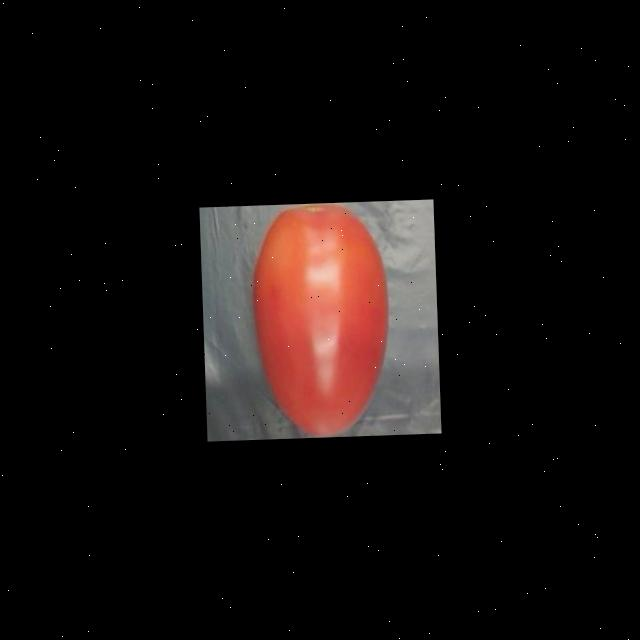tomato: (241, 202, 407, 439)
